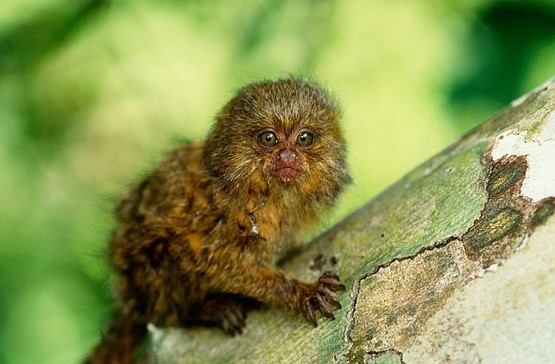PygmyMarmoset: (98, 84, 371, 315)
